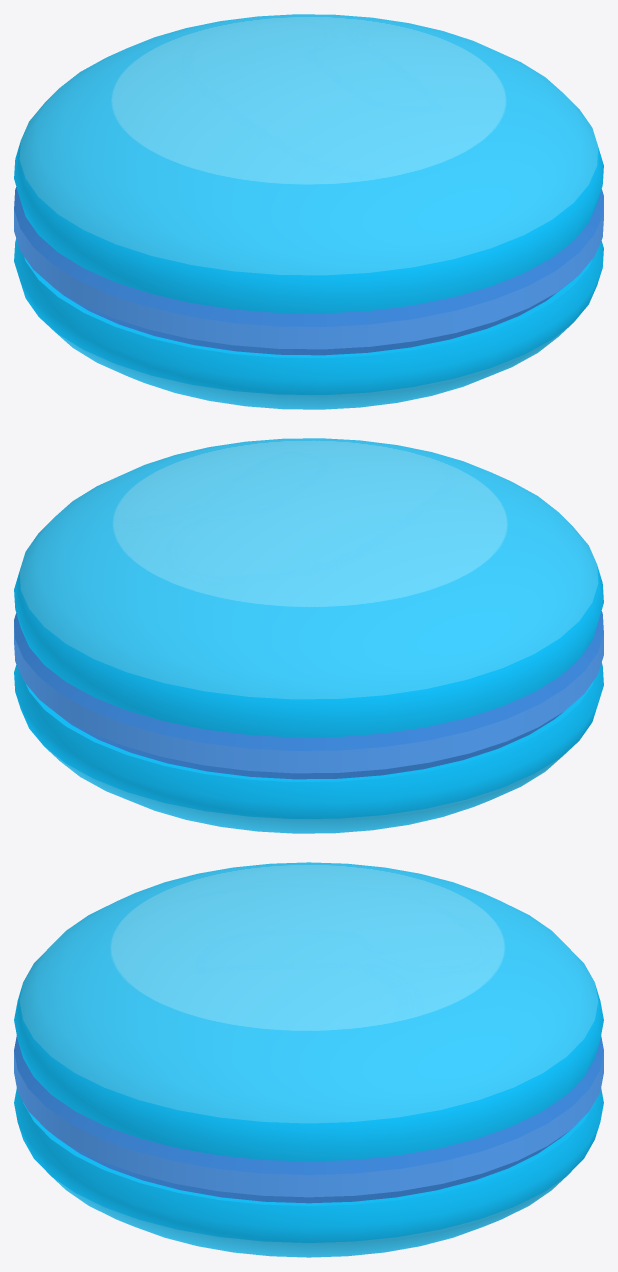
The model's file is Blue_Cookie.glb.
3 views of the same model, one above another, from view 1: azimuth 30°, elevation 25°; view 2: azimuth 150°, elevation 25°; view 3: azimuth 270°, elevation 25° (orthographic).
Parts seen in each view (by area): view 1: CV6_1_Cookie_V20_0; view 2: CV6_1_Cookie_V20_0; view 3: CV6_1_Cookie_V20_0.
Boxes of the visible parts, x1=… form: CV6_1_Cookie_V20_0: x1=14, y1=14, x2=603, y2=409; CV6_1_Cookie_V20_0: x1=14, y1=438, x2=603, y2=833; CV6_1_Cookie_V20_0: x1=14, y1=862, x2=603, y2=1257.
Bounding box in the file's own units: 12 × 6.1 × 12.
Materials: 1 (1 with a texture image).
